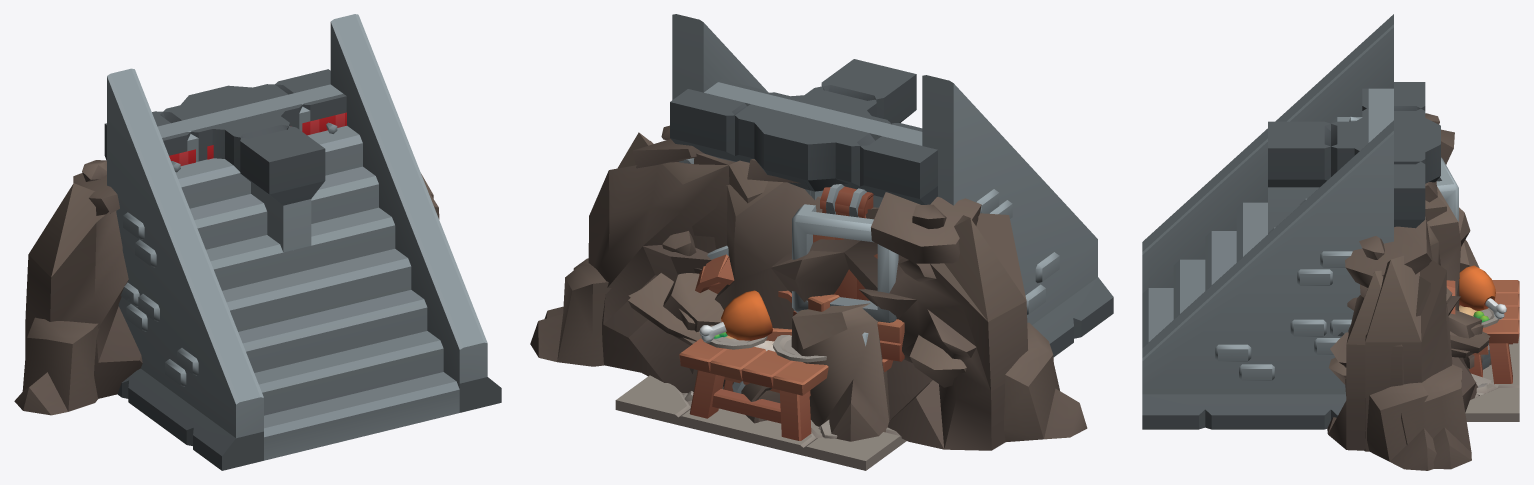
The model's file is dungeon.glb.
3 renders of one model, left to right at view 1: azimuth 30°, elevation 25°; view 2: azimuth 150°, elevation 25°; view 3: azimuth 270°, elevation 25°, orthographic. The views are drawn at different scales.
Parts seen in each view (by area): view 1: stairs, rubble_large, wall_corner, wall_arched, banner_triple_red, wall_pillar, pillar_decorated; view 2: rubble_large, rubble_half, stairs, table_long_decorated_A, box_stacked, wall_shelves, floor_tile_large_rocks, wall_arched, wall_corner, wall_pillar, pillar, floor_tile_large (+3 smaller); view 3: stairs, rubble_half, rubble_large, wall_corner, table_long_decorated_A, wall_arched, wall, floor_tile_large_rocks, wall_pillar, box_stacked, wall_shelves, floor_dirt_large_rocky.
Part boxes in pixels (box(x1,y1,x2,y2)): stairs: box(107, 14, 501, 470); rubble_large: box(14, 160, 439, 415); wall_corner: box(187, 114, 325, 252); wall_arched: box(104, 69, 346, 161); banner_triple_red: box(169, 112, 346, 172); wall_pillar: box(181, 85, 285, 158); pillar_decorated: box(190, 86, 277, 129); rubble_large: box(544, 141, 1087, 450); rubble_half: box(530, 125, 767, 393); stairs: box(672, 14, 1113, 357); table_long_decorated_A: box(679, 290, 828, 440); box_stacked: box(723, 184, 898, 423); wall_shelves: box(670, 102, 924, 204); floor_tile_large_rocks: box(616, 375, 905, 470); wall_arched: box(670, 79, 937, 204); wall_corner: box(804, 59, 931, 207); wall_pillar: box(754, 94, 933, 199); pillar: box(757, 95, 863, 183); floor_tile_large: box(615, 400, 906, 470); stairs: box(1142, 14, 1393, 429); rubble_half: box(1345, 197, 1489, 469); rubble_large: box(1327, 113, 1490, 470); wall_corner: box(1268, 106, 1415, 232); table_long_decorated_A: box(1459, 265, 1519, 384); wall_arched: box(1362, 82, 1425, 227); wall: box(1362, 127, 1425, 228); floor_tile_large_rocks: box(1465, 334, 1519, 414); wall_pillar: box(1346, 118, 1440, 183); box_stacked: box(1436, 157, 1491, 369); wall_shelves: box(1363, 106, 1425, 227); floor_dirt_large_rocky: box(1465, 373, 1519, 421).
Size of the model in its own units: 8.13 by 5.91 by 6.
1 material, 1 textured.
